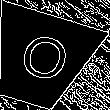O_S: (10, 29, 71, 90)
